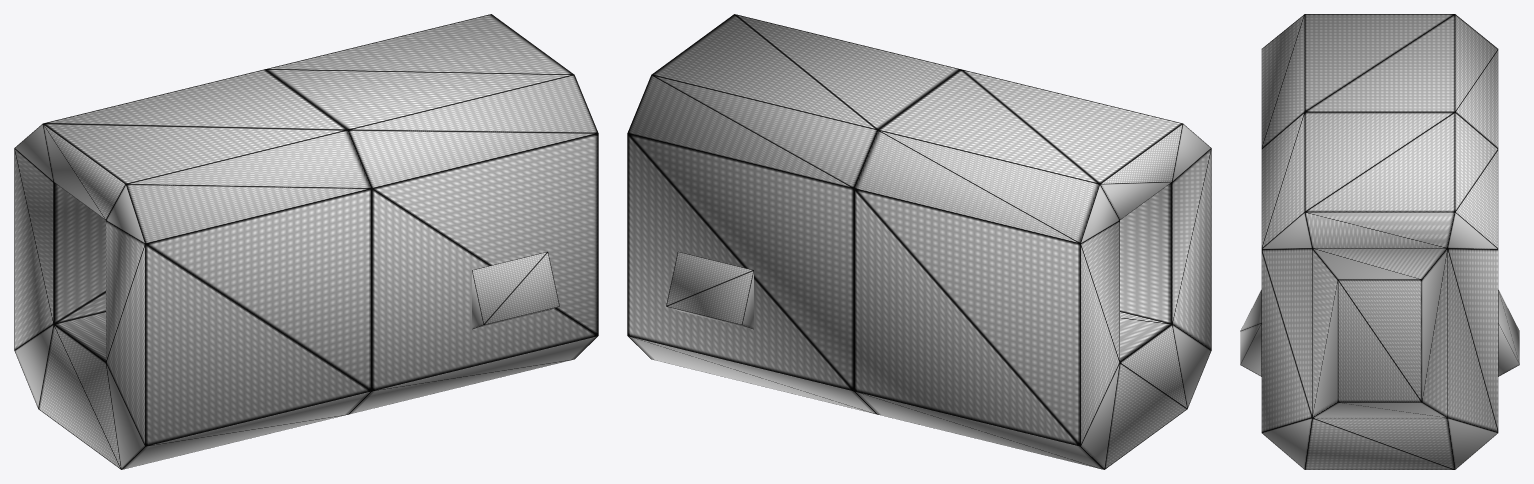
Rendered from AIRCONT.obj.
The picture shows the model from 3 angles, left to right: view 1: azimuth 30°, elevation 25°; view 2: azimuth 150°, elevation 25°; view 3: azimuth 270°, elevation 25°; orthographic projection. The views are drawn at different scales.
Bounding box in the file's own units: 200 × 120 × 118.
Materials: 1 (1 with a texture image).
